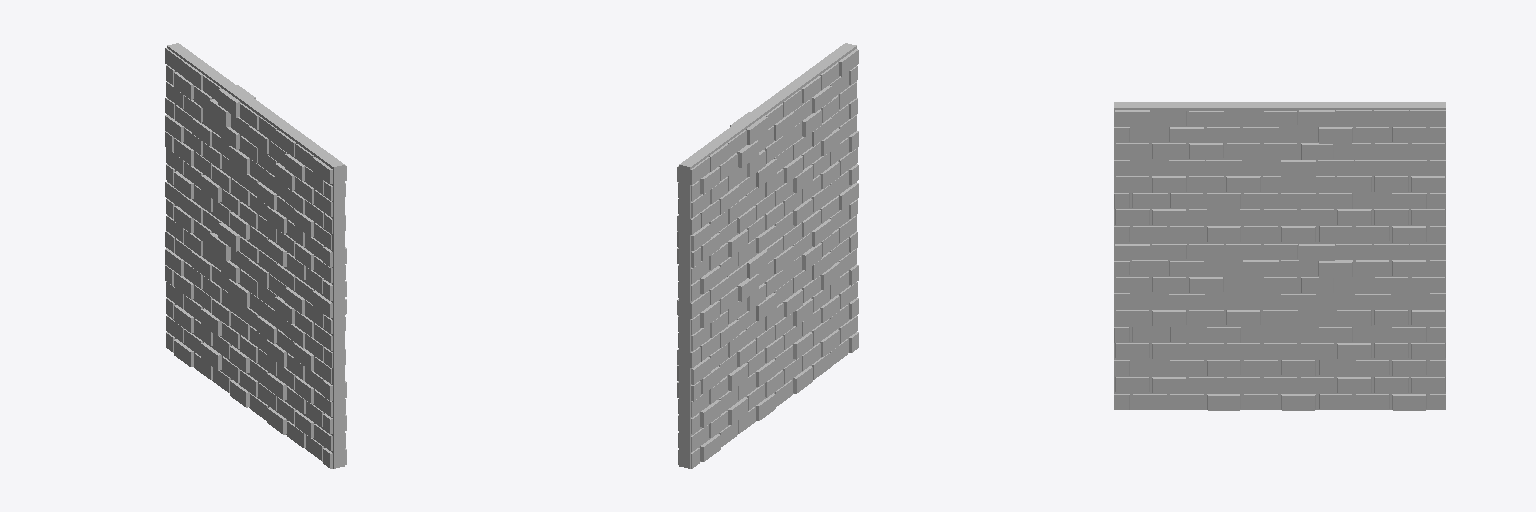
Rendered from WALL.obj.
3 views of the same model, side by side, from view 1: azimuth 30°, elevation 25°; view 2: azimuth 150°, elevation 25°; view 3: azimuth 270°, elevation 25° (orthographic).
Visible parts, largest first — view 1: polySurface285; view 2: polySurface285; view 3: polySurface285.
Part boxes in pixels (x1,y1,x2,y2): polySurface285: (165,43,346,468); polySurface285: (677,43,858,468); polySurface285: (1114,102,1445,410).
Bounding box in the file's own units: 0.7164 × 10 × 10.